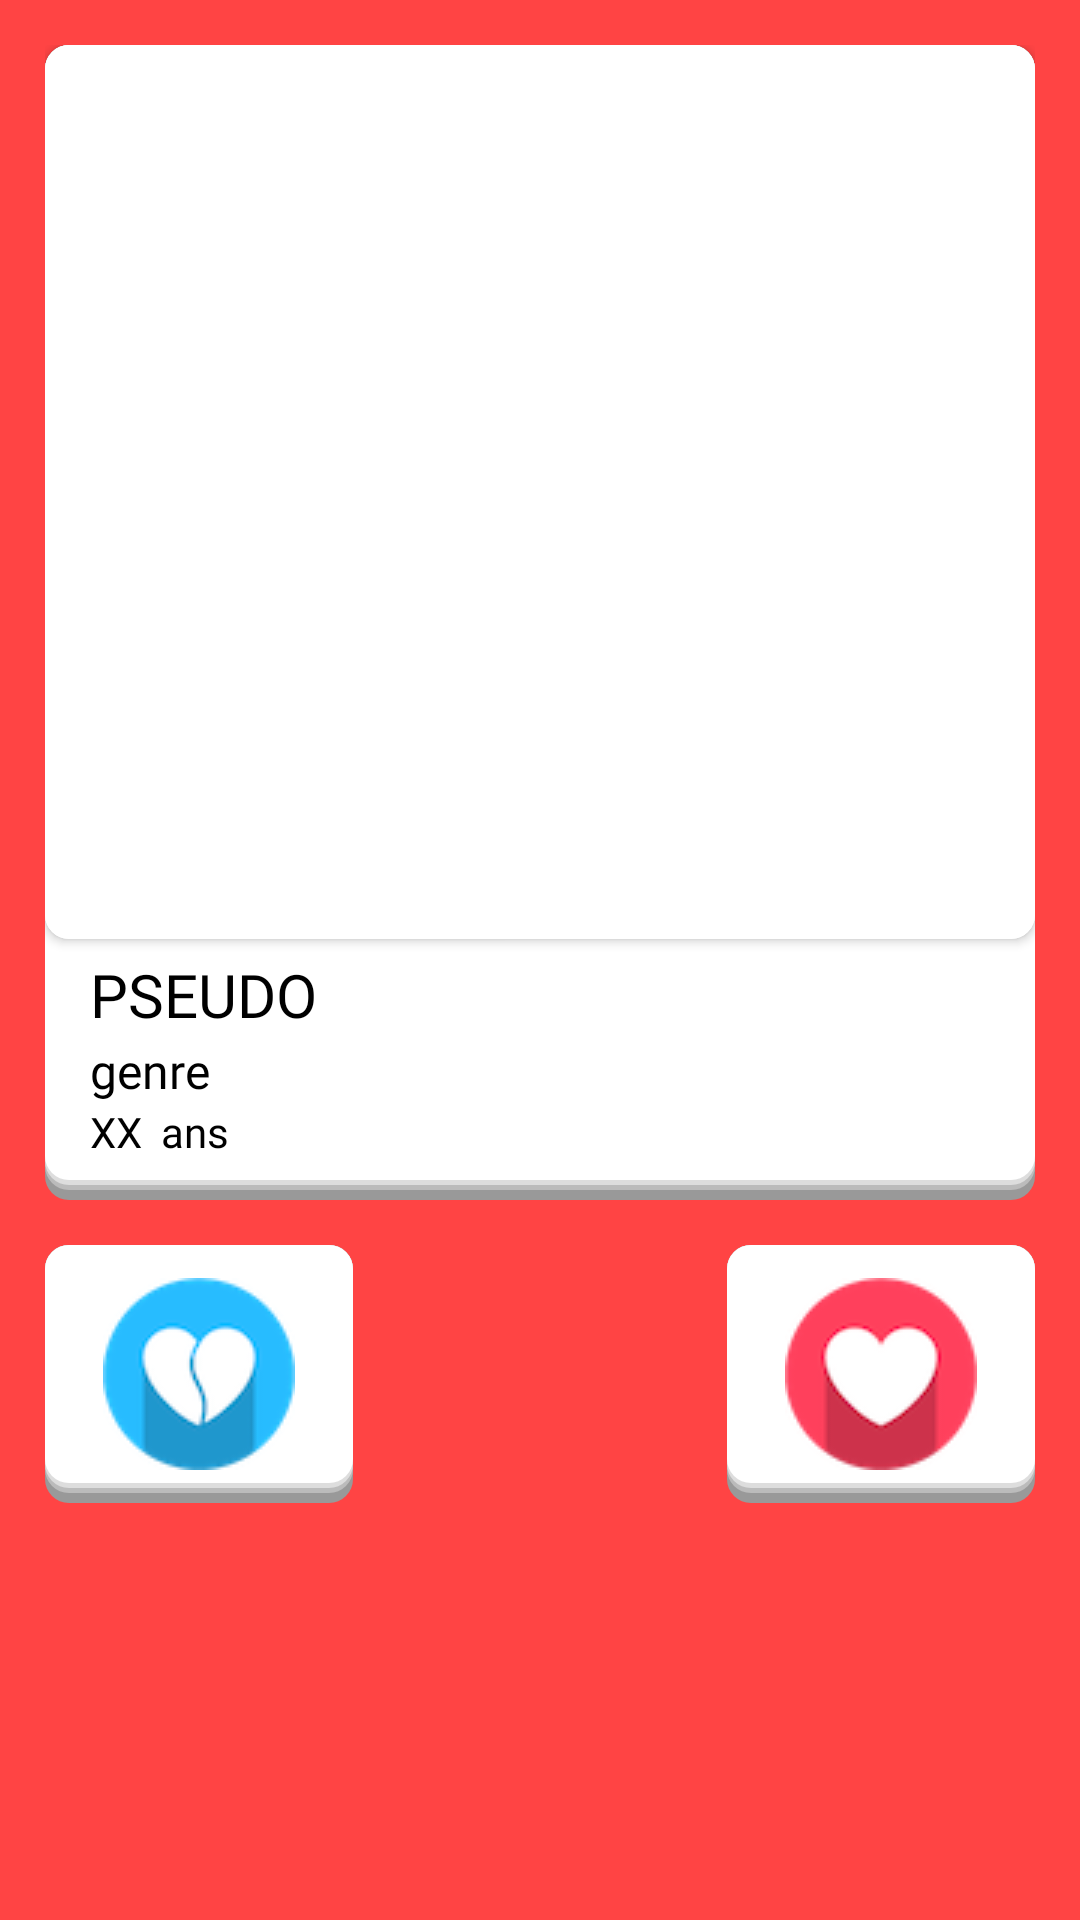

Where icons sit on this 1080x1920 app screen, as (x1, y1, x2, y2):
dislike: (45, 1245, 353, 1503)
like: (727, 1245, 1035, 1503)
